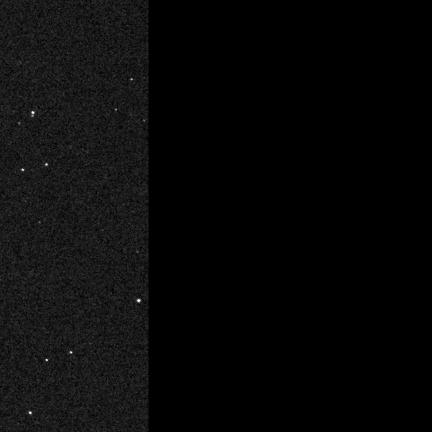blob: (29, 412, 33, 415), (137, 299, 141, 302), (22, 169, 25, 172), (32, 111, 35, 114), (46, 164, 49, 167), (70, 351, 73, 354), (46, 359, 49, 362), (130, 79, 134, 81)
